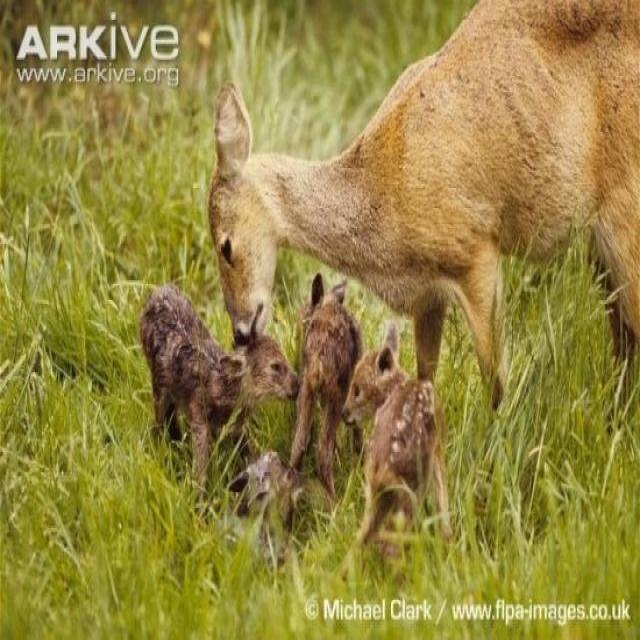deer: (209, 1, 640, 398), (103, 270, 294, 461), (338, 315, 452, 578), (282, 271, 363, 502)
